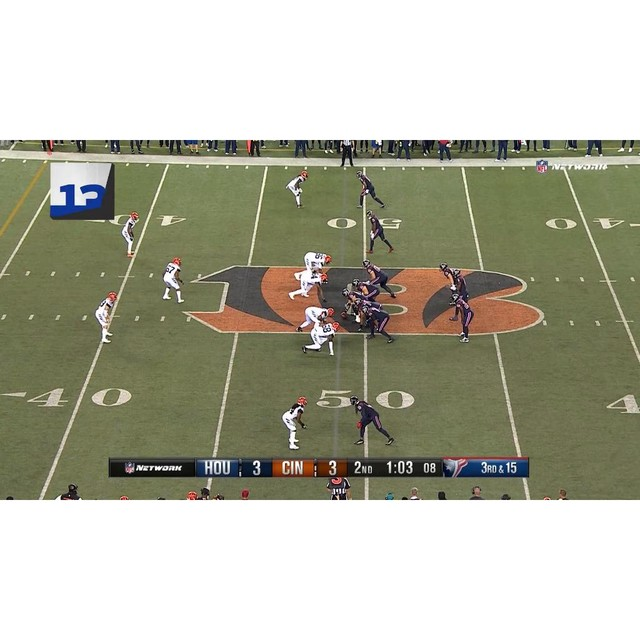american-football-player: (349, 396, 394, 446), (281, 397, 308, 450), (363, 258, 396, 298), (365, 210, 395, 253), (363, 302, 394, 343), (94, 292, 118, 344), (288, 271, 329, 301), (355, 168, 385, 209), (292, 252, 332, 282), (301, 322, 336, 356), (450, 292, 473, 343), (295, 306, 333, 333), (162, 256, 183, 302), (286, 169, 309, 208), (121, 212, 140, 257), (352, 278, 380, 302)
referee: (340, 141, 356, 167)
